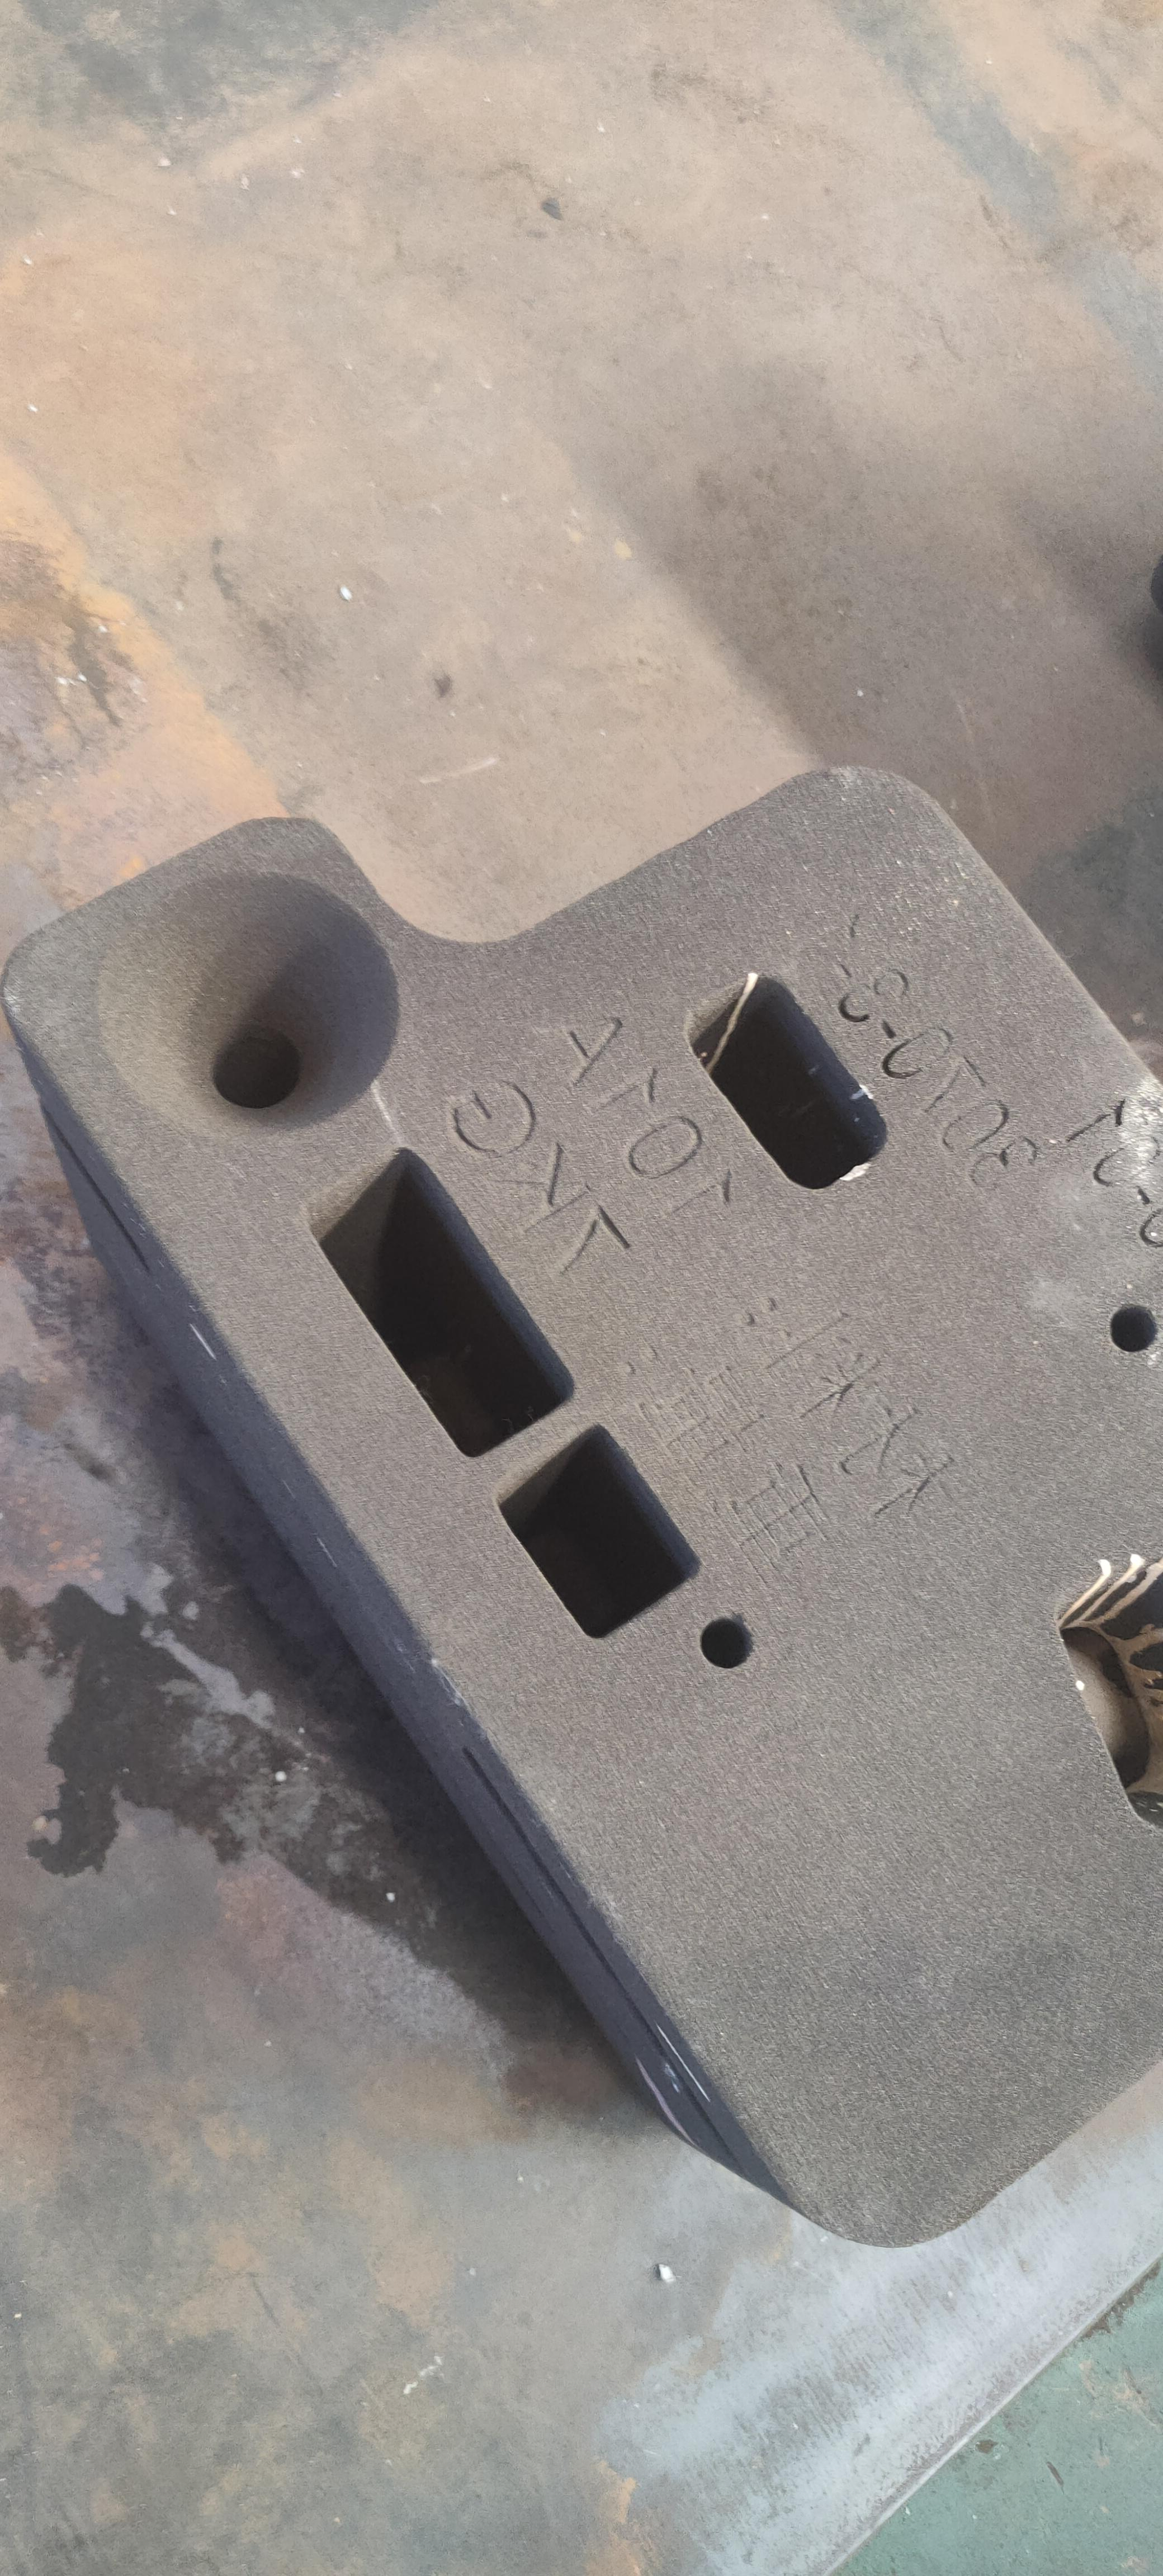pouring hole: (99, 864, 404, 1142)
